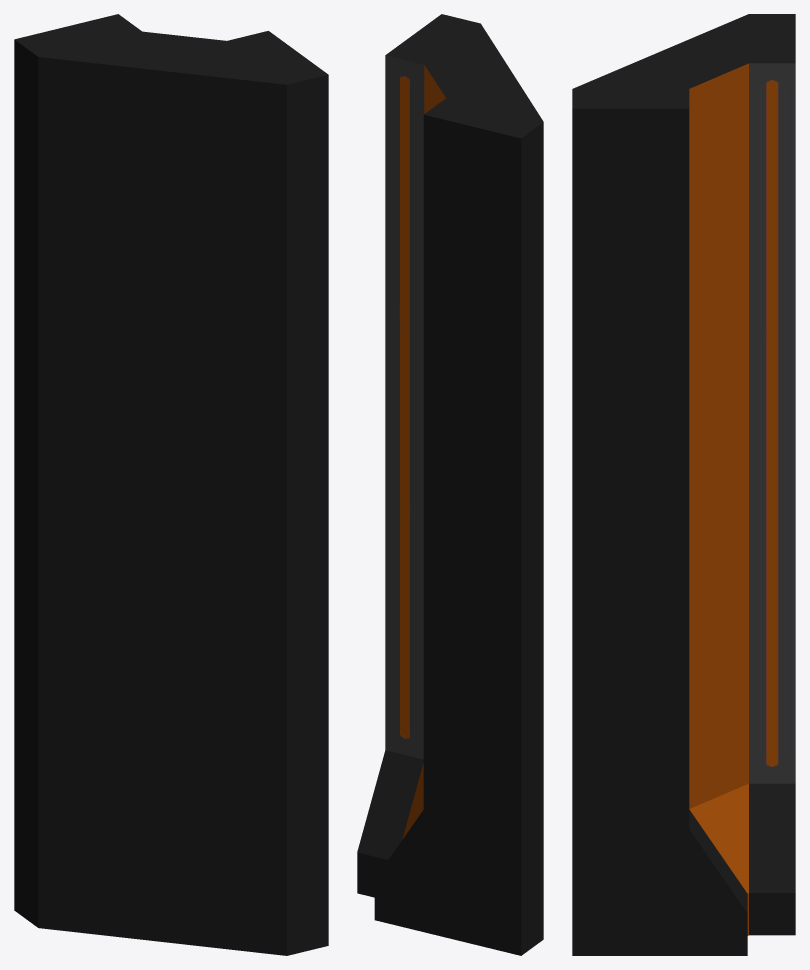
Rendered from wall_corner.fbx.
3 views of the same model, side by side, from view 1: azimuth 30°, elevation 25°; view 2: azimuth 150°, elevation 25°; view 3: azimuth 270°, elevation 25° (orthographic). The views are drawn at different scales.
Visible parts, largest first — view 1: Cube.001; view 2: Cube.001; view 3: Cube.001.
Part boxes in pixels (x1,y1,x2,y2): Cube.001: [14, 14, 328, 955]; Cube.001: [357, 14, 543, 955]; Cube.001: [572, 14, 795, 955].
Bounding box in the file's own units: 192 × 800 × 191.
Materials: 3 (1 with a texture image).
